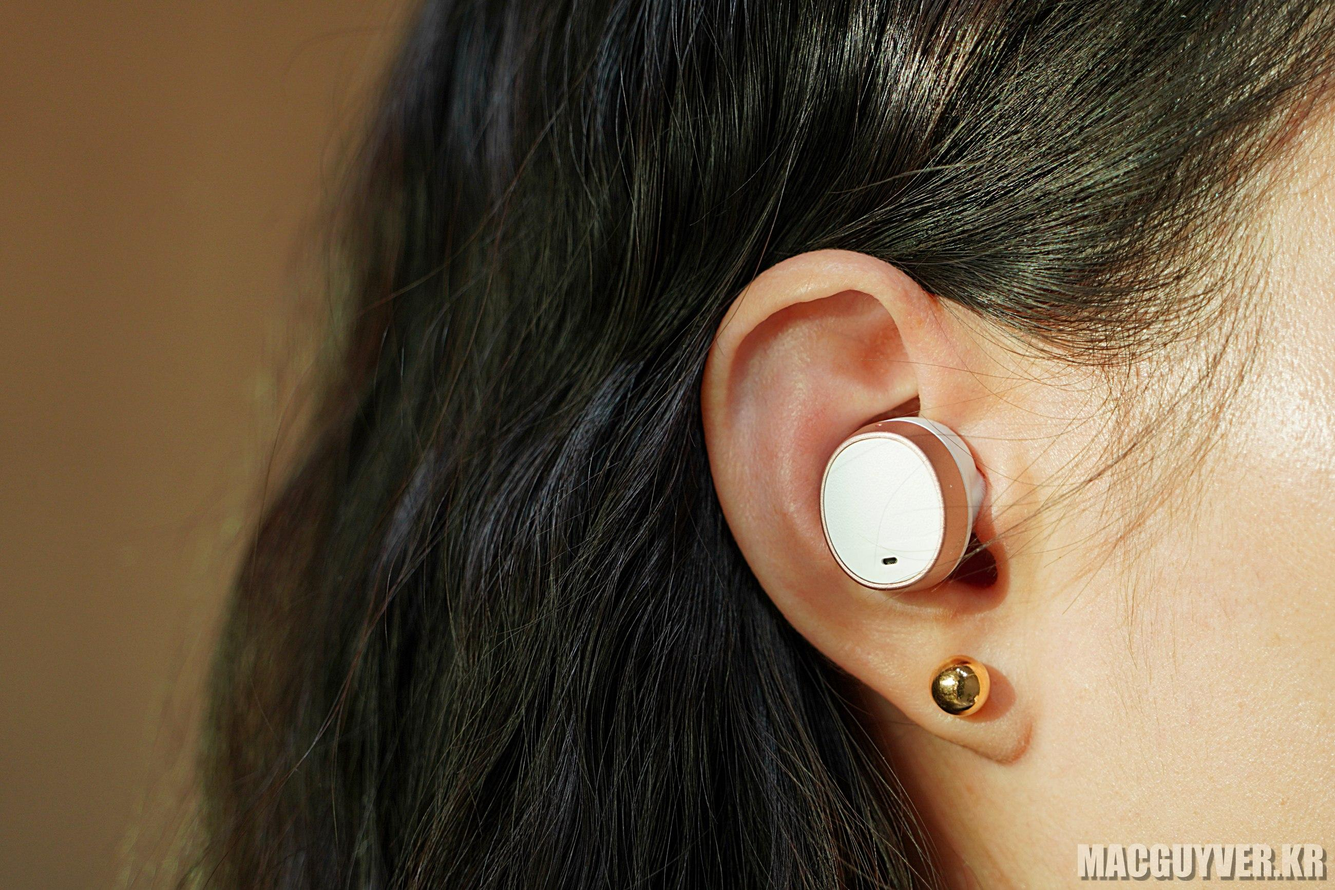earphone: (789, 401, 1021, 603)
